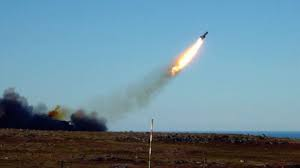ten_lua: (196, 28, 210, 44)
